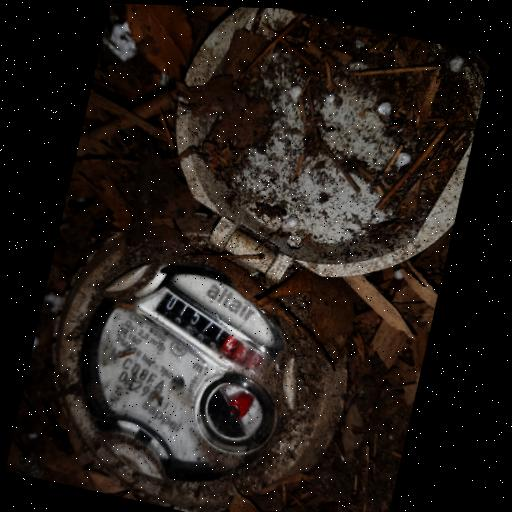0: (155, 290, 183, 321)
1: (204, 323, 232, 354), (168, 299, 195, 329)
3: (228, 340, 252, 368)
4: (217, 332, 241, 360)
5: (180, 307, 207, 337)
6: (241, 349, 265, 375)
7: (191, 315, 220, 346)
border_water_meter_number: (133, 281, 280, 390)
